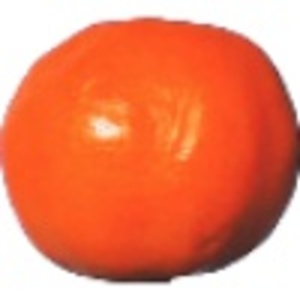tangerina: (2, 14, 300, 285)
